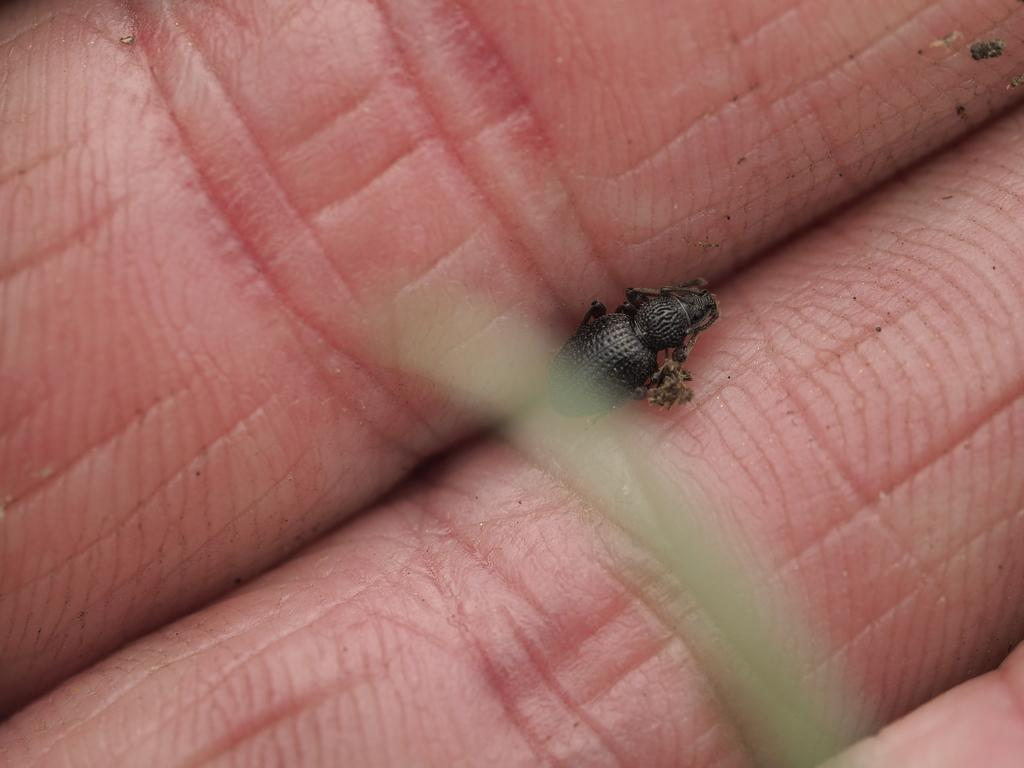weevils: (506, 242, 749, 463)
